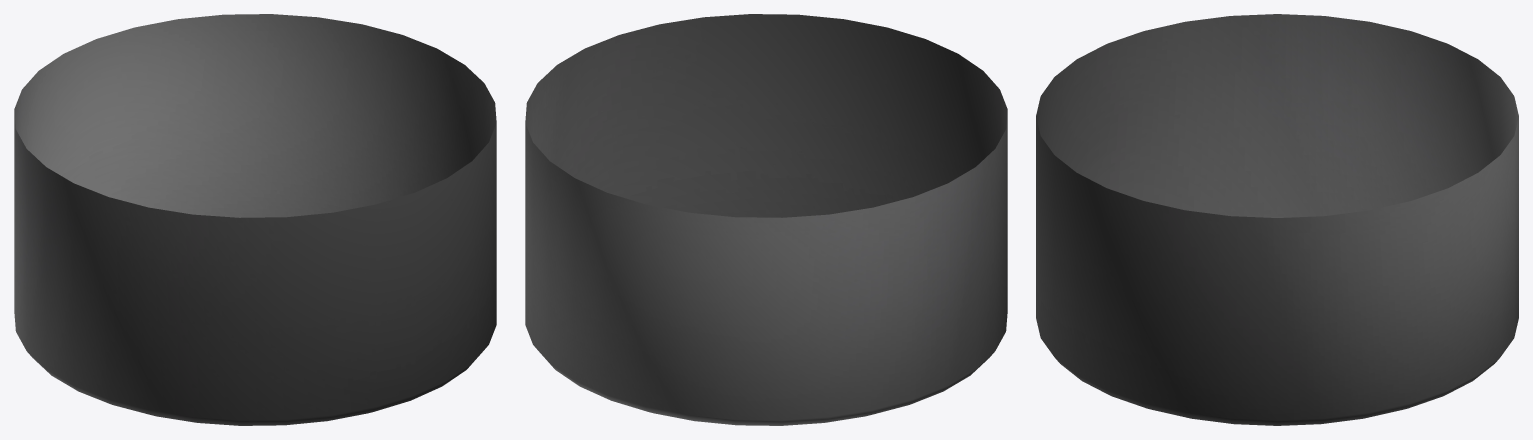
The model's file is studio_env.gltf.
3 renders of one model, left to right at view 1: azimuth 30°, elevation 25°; view 2: azimuth 150°, elevation 25°; view 3: azimuth 270°, elevation 25°, orthographic.
Visible parts, largest first — view 1: walls; view 2: walls; view 3: walls.
Boxes of the visible parts, <box> form: walls: <box>14,14,496,425</box>; walls: <box>525,14,1007,425</box>; walls: <box>1036,14,1518,425</box>.
Size of the model in its own units: 6.86 by 3.42 by 6.86.
Materials: 2 (2 with a texture image).
